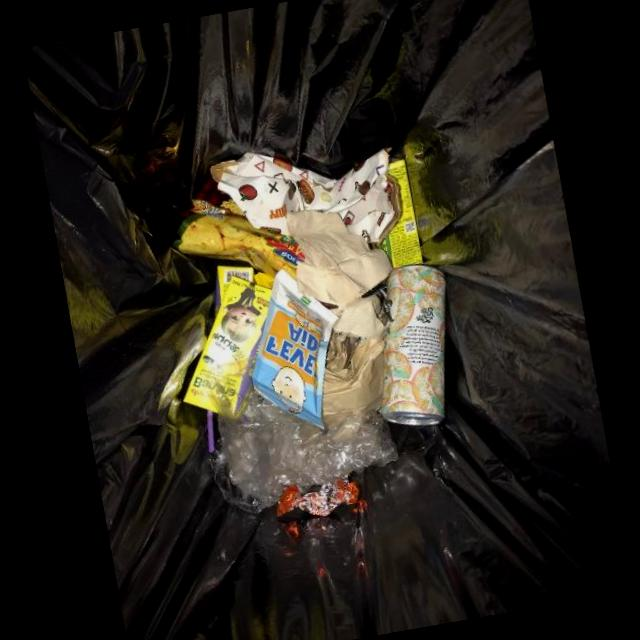bao_bi_thuc_pham: (173, 177, 305, 279), (276, 477, 359, 515)
giay: (209, 146, 402, 242), (284, 209, 393, 306), (320, 330, 386, 436), (330, 294, 385, 338)
nhom: (380, 262, 446, 425)
ong_hut_nhua: (206, 410, 215, 452)
tui_ni_long: (201, 351, 398, 512), (251, 268, 338, 428)
vo_hop_sua: (183, 264, 271, 418), (379, 157, 423, 267)
